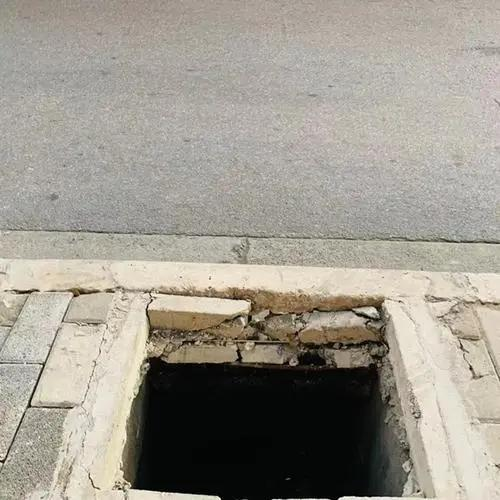wellcover: (95, 288, 446, 500)
